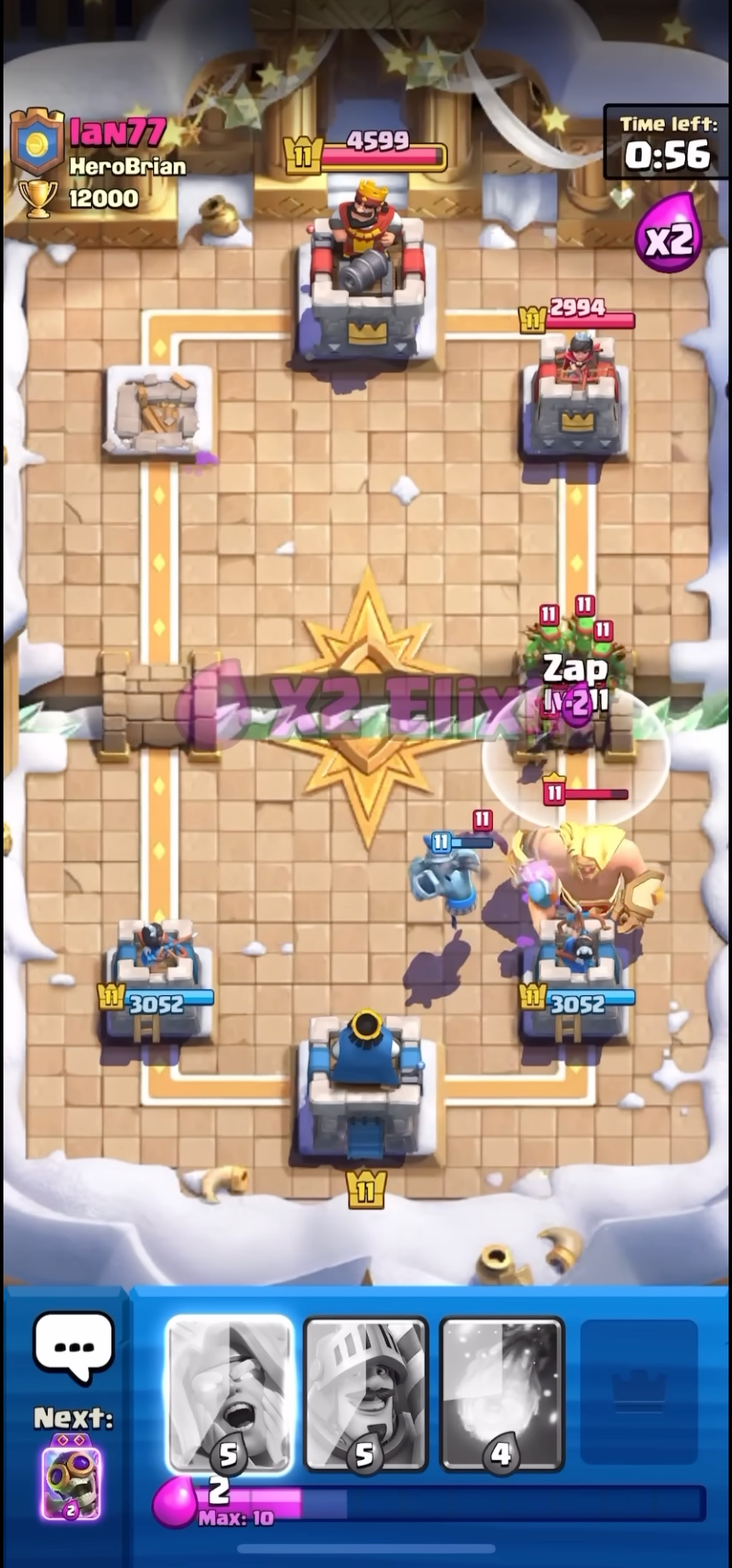bats: (460, 806, 513, 858)
hero-giant: (512, 778, 671, 951)
spear-goblin: (587, 615, 632, 704), (520, 605, 572, 665), (562, 588, 601, 659)
